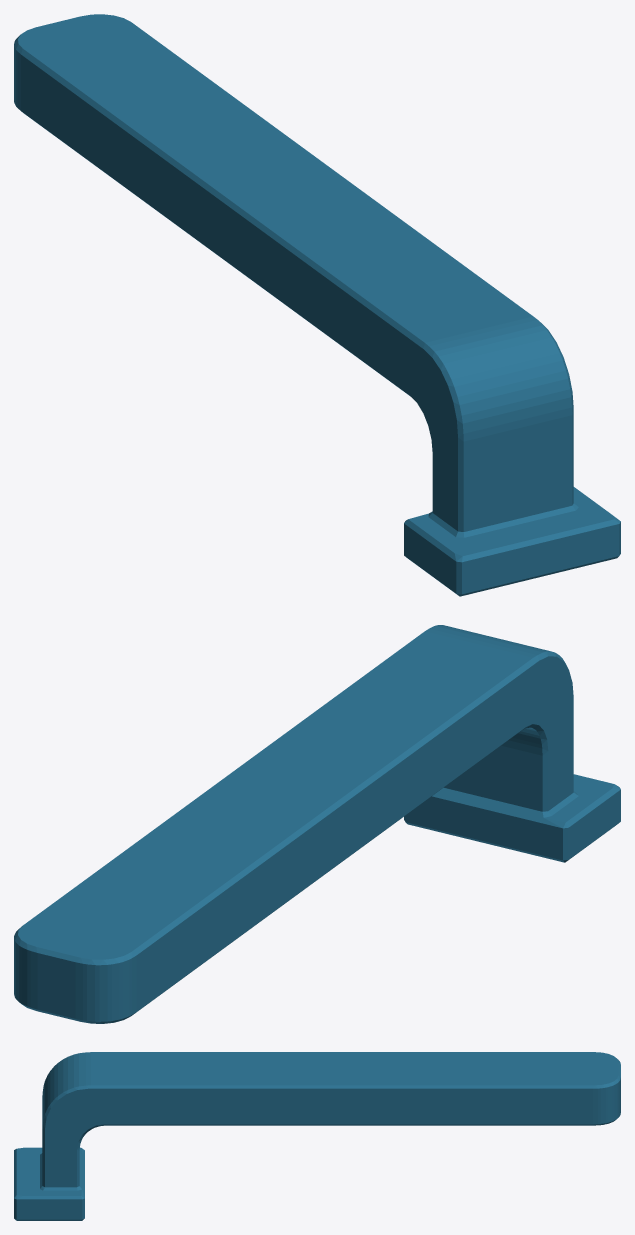
Rendered from VIS_HandLink.dae.
The picture shows the model from 3 angles, top to bottom: view 1: azimuth 30°, elevation 25°; view 2: azimuth 150°, elevation 25°; view 3: azimuth 270°, elevation 25°; orthographic projection. The views are drawn at different scales.
Visible parts, largest first — view 1: VIS_HandLink; view 2: VIS_HandLink; view 3: VIS_HandLink.
Part boxes in pixels (x1,y1,x2,y2): VIS_HandLink: (14, 14, 620, 596); VIS_HandLink: (14, 625, 620, 1023); VIS_HandLink: (14, 1052, 620, 1220).
Bounding box in the file's own units: 0.0249 × 0.127 × 0.0296.
